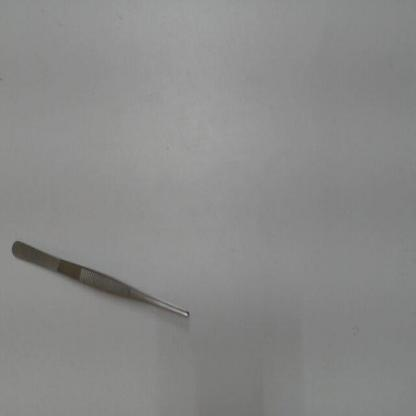Gillies Toothed Dissector: (10, 233, 193, 326)
